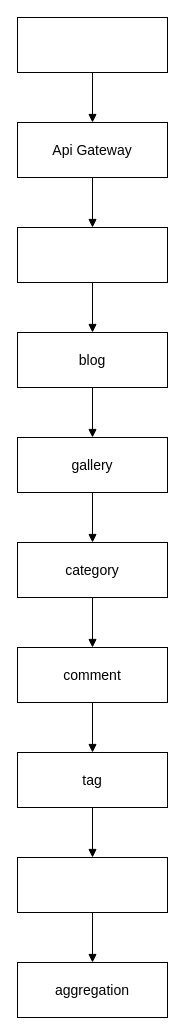
This 185x1035 diagram has some shape labels left out. Here are the shapes that lost their labels. From the top down, the box of each, then its label:
(16, 16, 168, 72): Client
(16, 226, 168, 282): user
(16, 856, 168, 912): file
